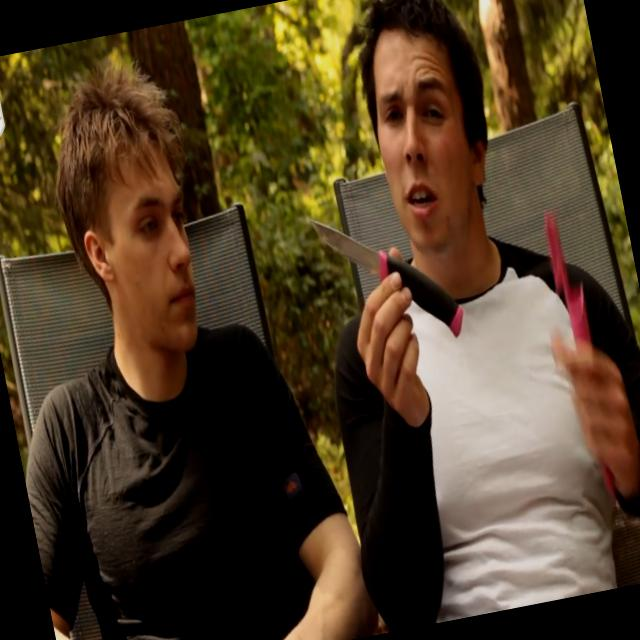knife: (298, 180, 476, 382)
